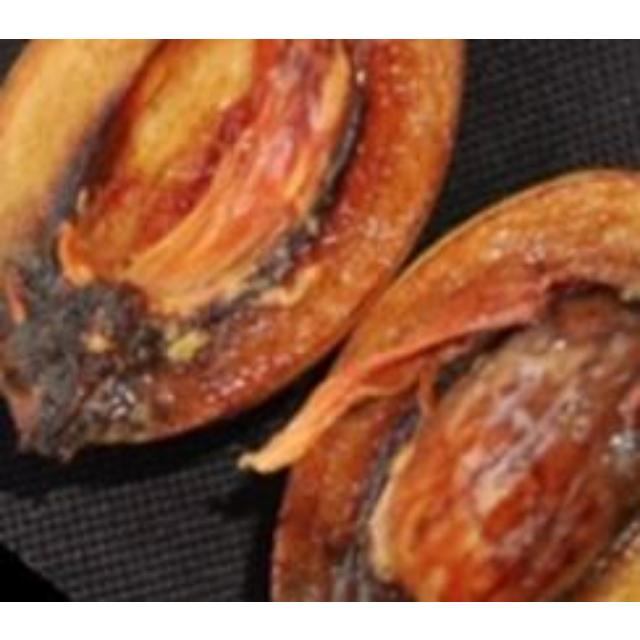damaged: (0, 38, 462, 458), (241, 169, 637, 599)
